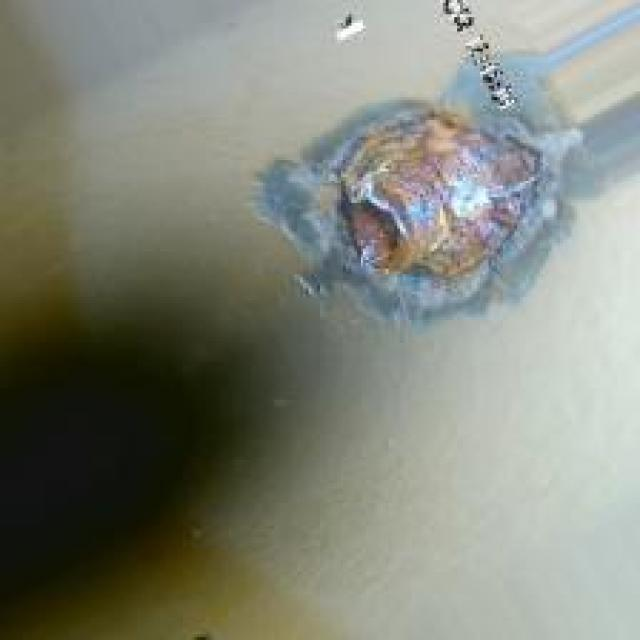ferrule: (326, 111, 551, 292)
